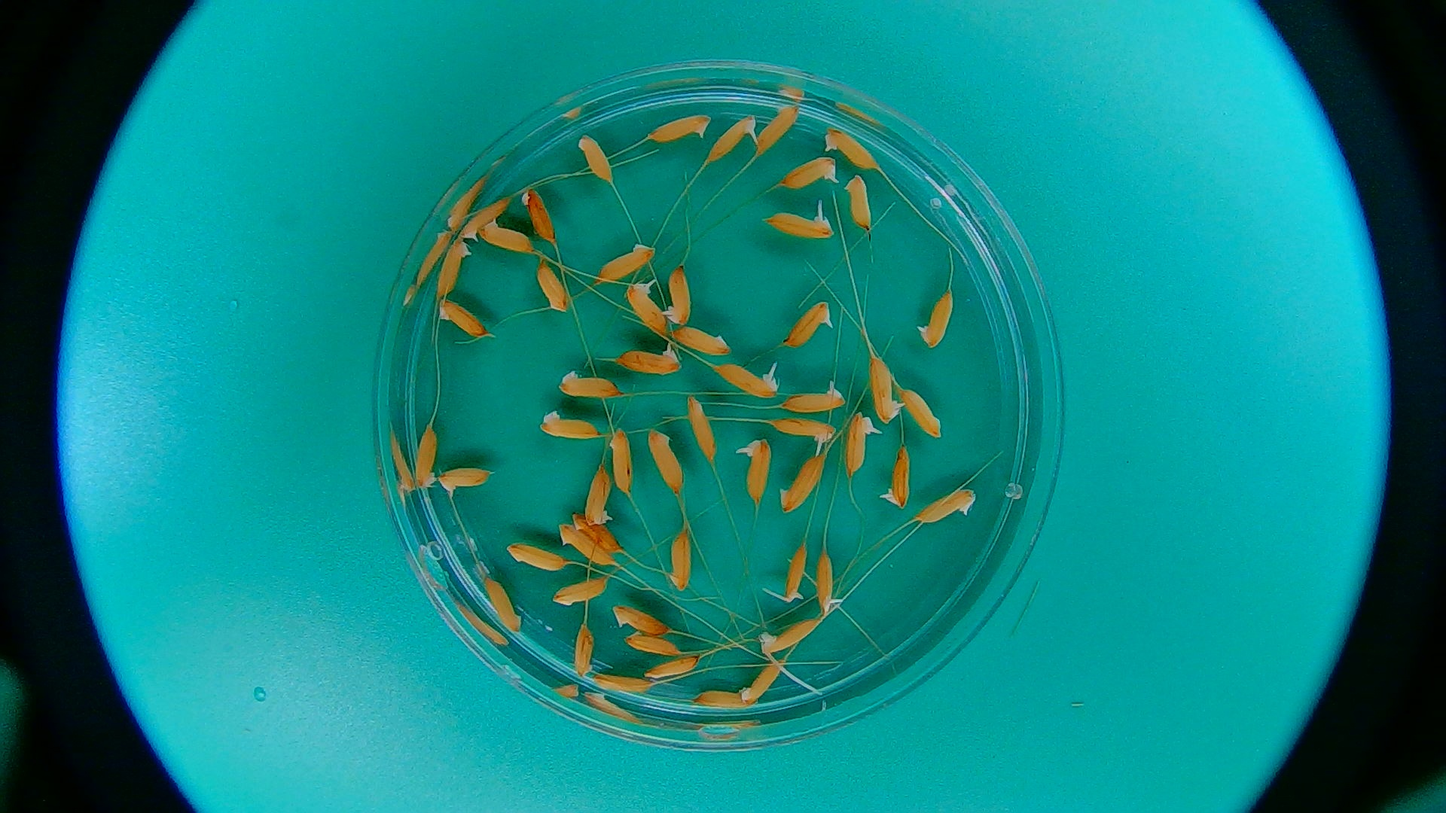no: (777, 452, 827, 516), (458, 192, 510, 247), (555, 521, 615, 568), (435, 293, 493, 340), (480, 576, 526, 635), (823, 123, 881, 169), (436, 236, 474, 305), (646, 426, 685, 493), (898, 385, 944, 441), (911, 489, 978, 526), (596, 243, 657, 282), (667, 321, 731, 358), (520, 187, 561, 244), (739, 658, 788, 705), (758, 102, 799, 158), (571, 510, 623, 553), (557, 365, 620, 400), (647, 112, 712, 145), (686, 391, 717, 460), (477, 218, 533, 253), (505, 539, 564, 572), (612, 604, 672, 636), (535, 260, 569, 316), (538, 410, 599, 440), (549, 577, 609, 607), (578, 132, 612, 184), (844, 172, 872, 231), (643, 655, 700, 683), (667, 532, 694, 591), (413, 422, 436, 491), (609, 428, 633, 493), (572, 619, 596, 680), (623, 630, 681, 655), (692, 689, 756, 710), (593, 671, 651, 693)
yes: (710, 360, 780, 400), (624, 277, 667, 338), (706, 112, 760, 160), (781, 302, 836, 349), (758, 618, 826, 655), (914, 287, 954, 349), (865, 357, 901, 425), (767, 209, 836, 242), (877, 445, 911, 510), (782, 380, 845, 415), (584, 466, 618, 529), (661, 263, 694, 327), (842, 412, 875, 476), (617, 346, 682, 378), (740, 438, 773, 500), (782, 156, 842, 189), (436, 467, 493, 498), (770, 416, 835, 443), (815, 553, 840, 617), (781, 545, 807, 604)
